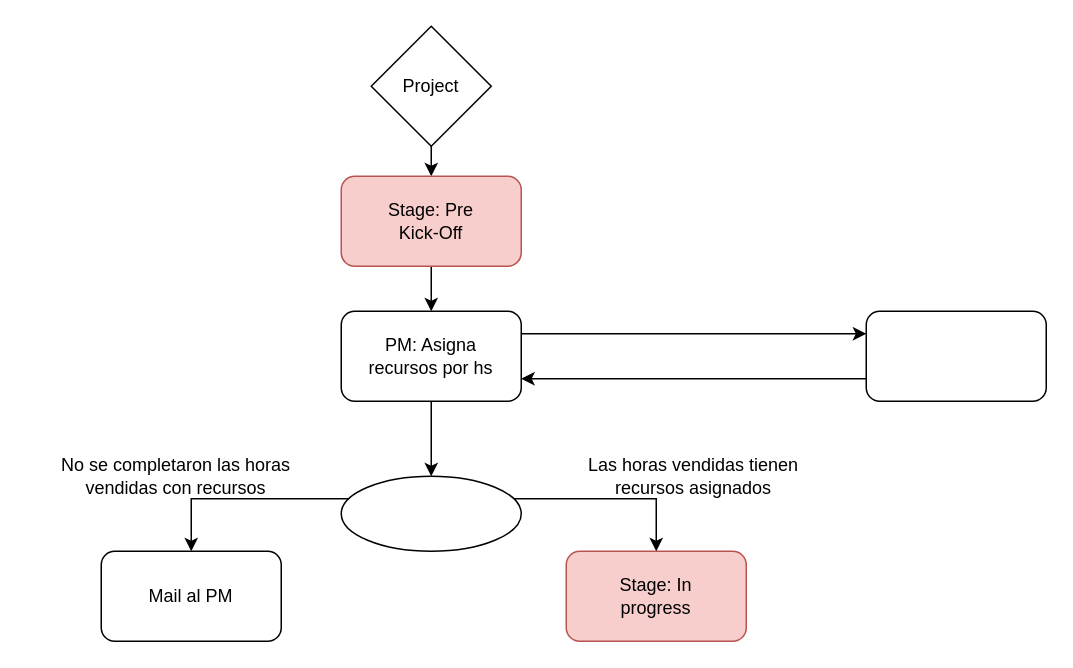
Image size: 1073x668. Some labels were removed from this diagram. The box of each missing label's shape, as (x1, y1, x2, y2) in pixels:
Recurso (user): ver hs disponibles: (865, 310, 1046, 401)
Starte Date: (340, 475, 521, 551)
